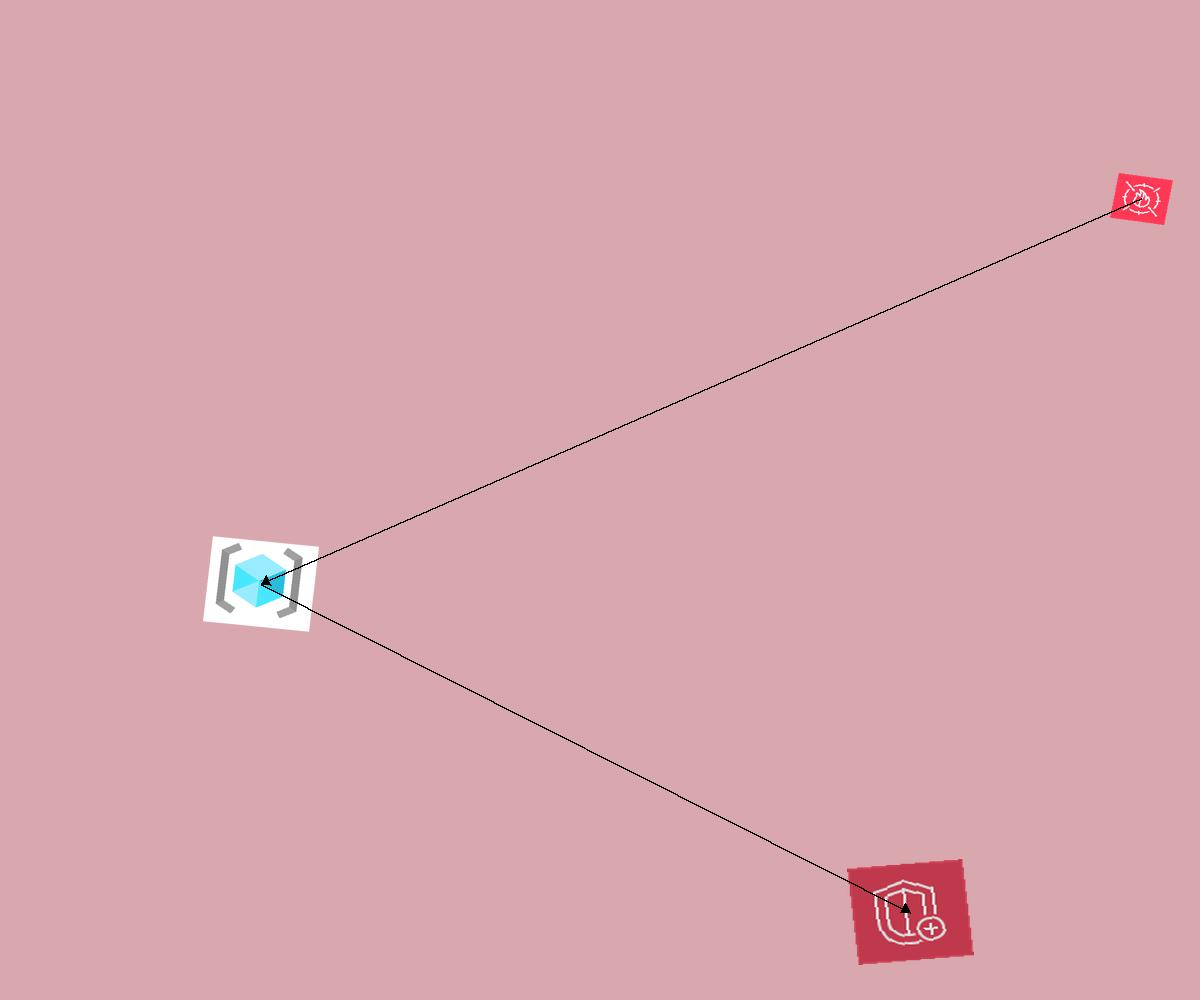AWS-Shield: (847, 859, 974, 965)
AWS-WAF: (1110, 173, 1173, 225)
Azure_resource_group: (203, 536, 319, 632)
